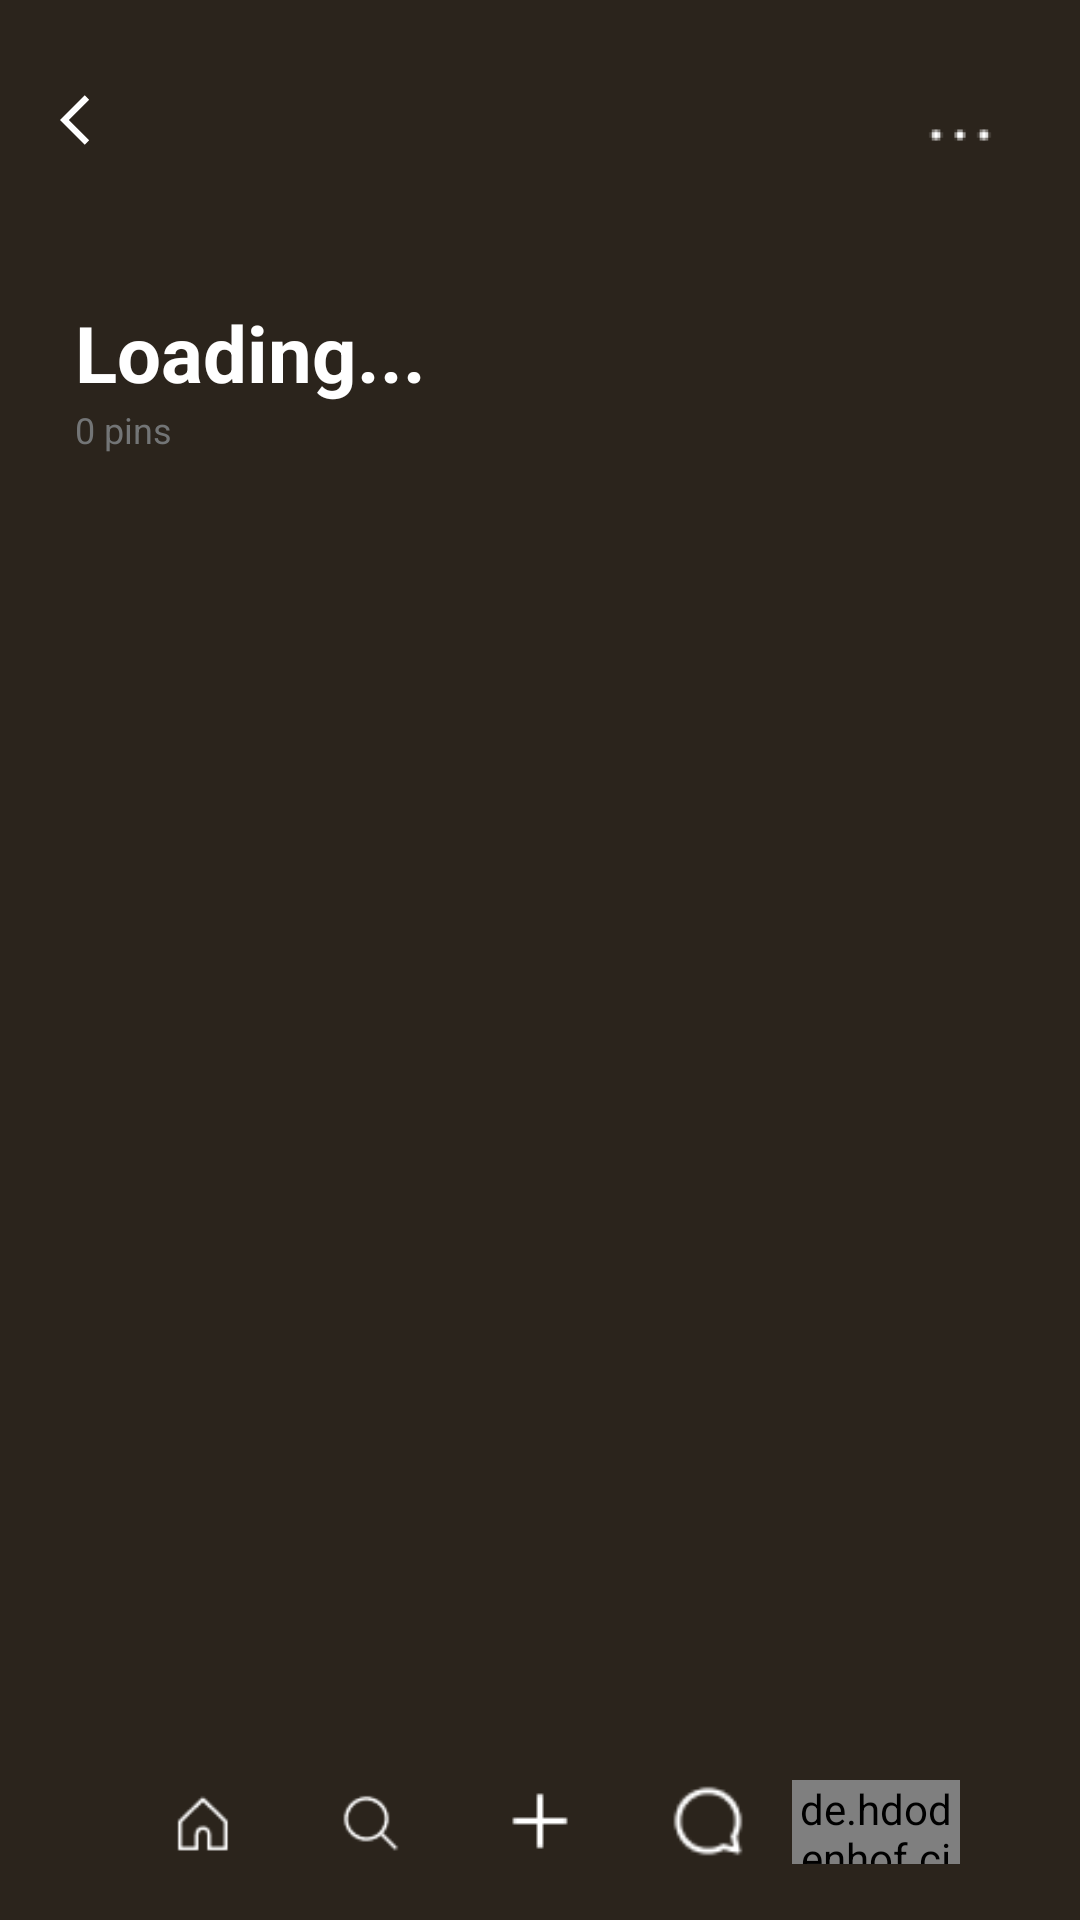

Icons on this 1080 x 1920 Android screen, each with the point to tap as [x,y]:
back arrow: [74,120]
comment: [708,1821]
plus: [540,1821]
search: [370,1823]
